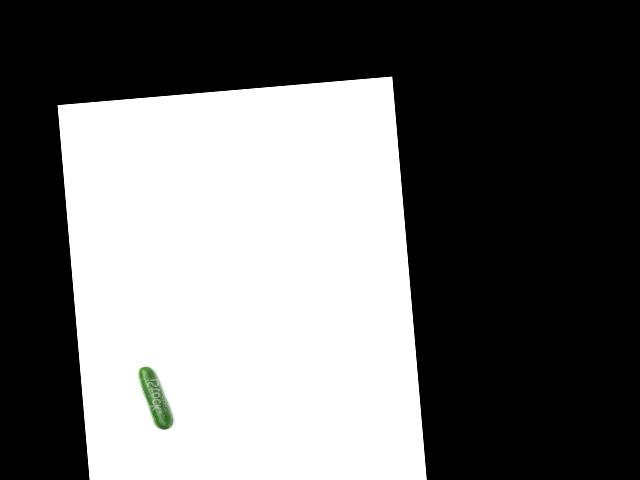cucumber: (138, 364, 173, 432)
